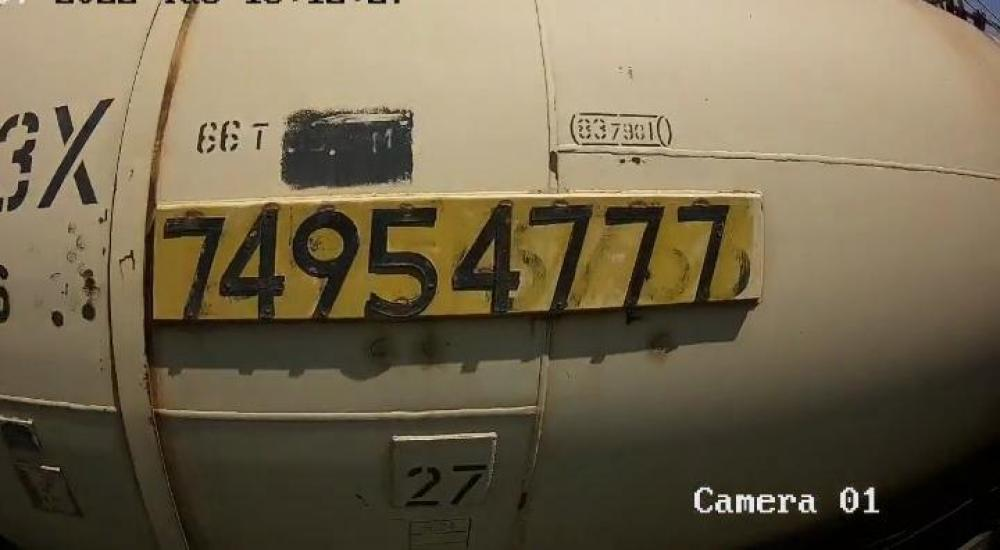Wagon-number: (159, 195, 731, 321)
